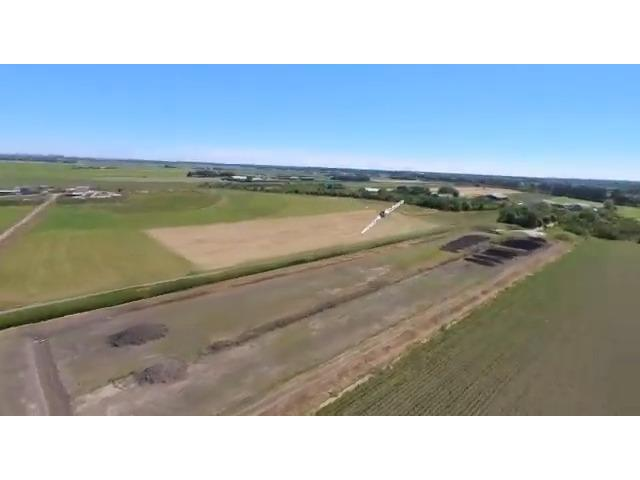Anti-Drone: (356, 195, 408, 237)
